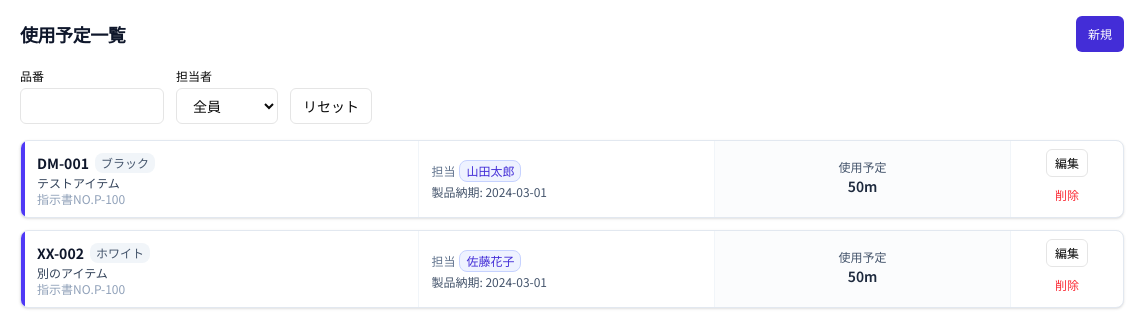
SchedulesTable フィルター › 品番で絞り込める
Step 1. Type "DM" into the field labelled "品番" → x=92, y=106, box [20,88,164,124]
Wait 300 ms
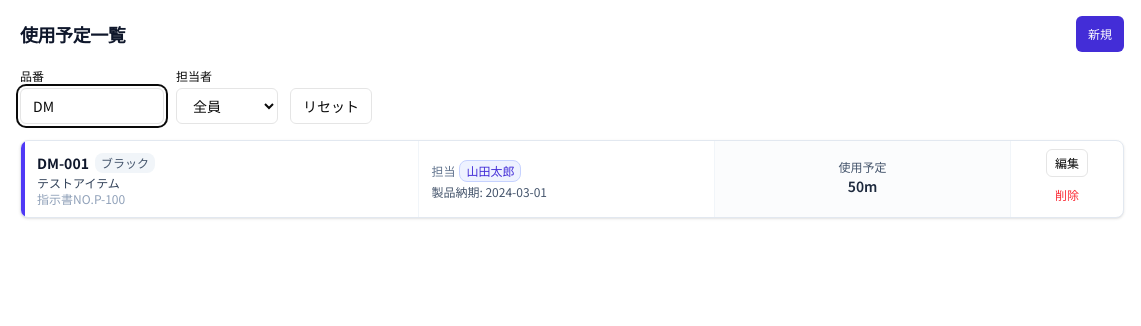
Expected: the text "DM-001" is shown, [37,156,89,170]
Expected: the text "XX-002" is gone
